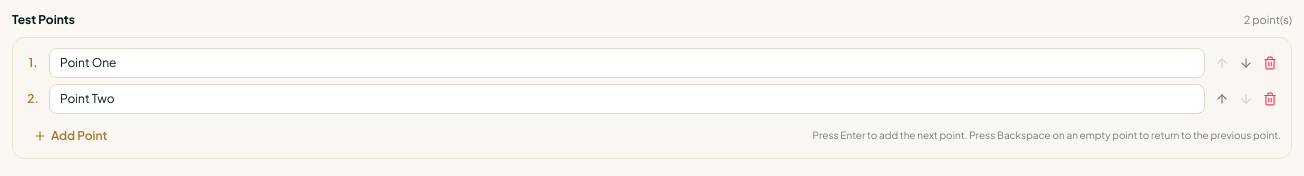
Test case: PointListEditor Component Suite › removes points with Trash button
What coordinates should you click on to do the following:
click the 1st button titled "Remove point"
I would click on:
 (1270, 62)
Its box is [1259, 52, 1281, 74].
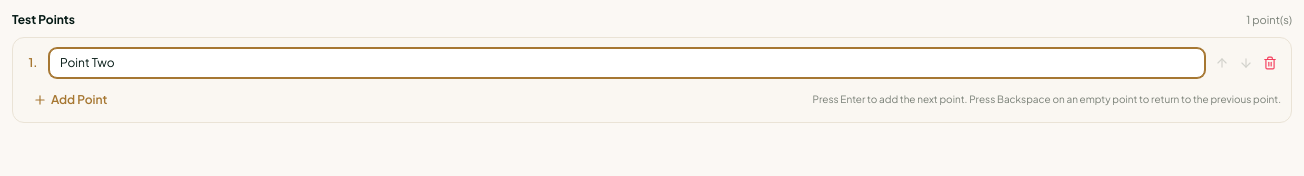
Expected: the number of fields is 1, [49, 48, 1205, 78]
Expected: the field holds "Point Two", [49, 48, 1205, 78]
